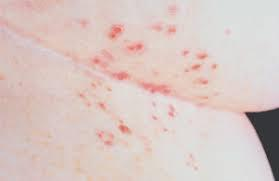Bed Bugs: (94, 124, 119, 150), (135, 79, 172, 96), (89, 46, 114, 71), (112, 119, 133, 139), (76, 89, 94, 109), (150, 22, 177, 35), (106, 21, 124, 40), (95, 98, 110, 113), (126, 41, 143, 51), (192, 76, 209, 86), (110, 71, 128, 79), (187, 62, 202, 71), (85, 79, 99, 88), (168, 104, 175, 117), (210, 63, 220, 72), (196, 51, 207, 59), (150, 113, 159, 122), (181, 48, 189, 56), (106, 86, 112, 94)
